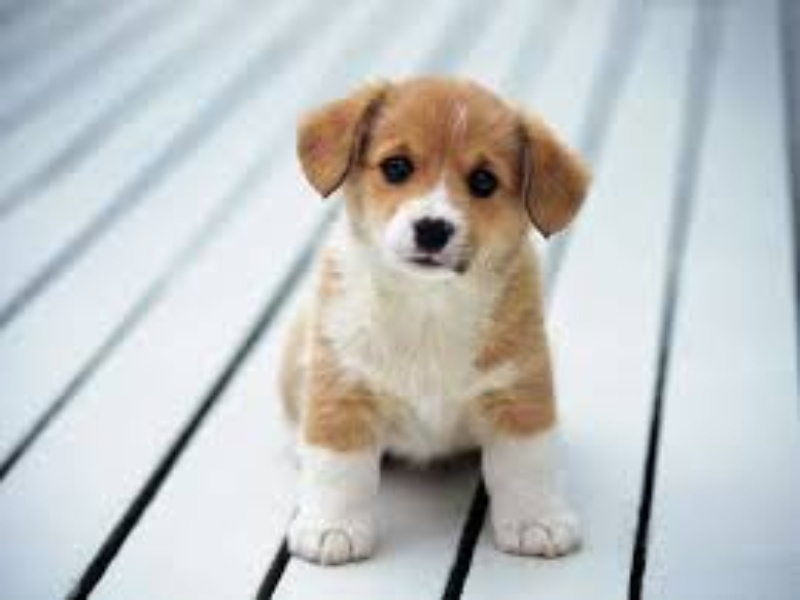dog: (286, 73, 592, 570)
